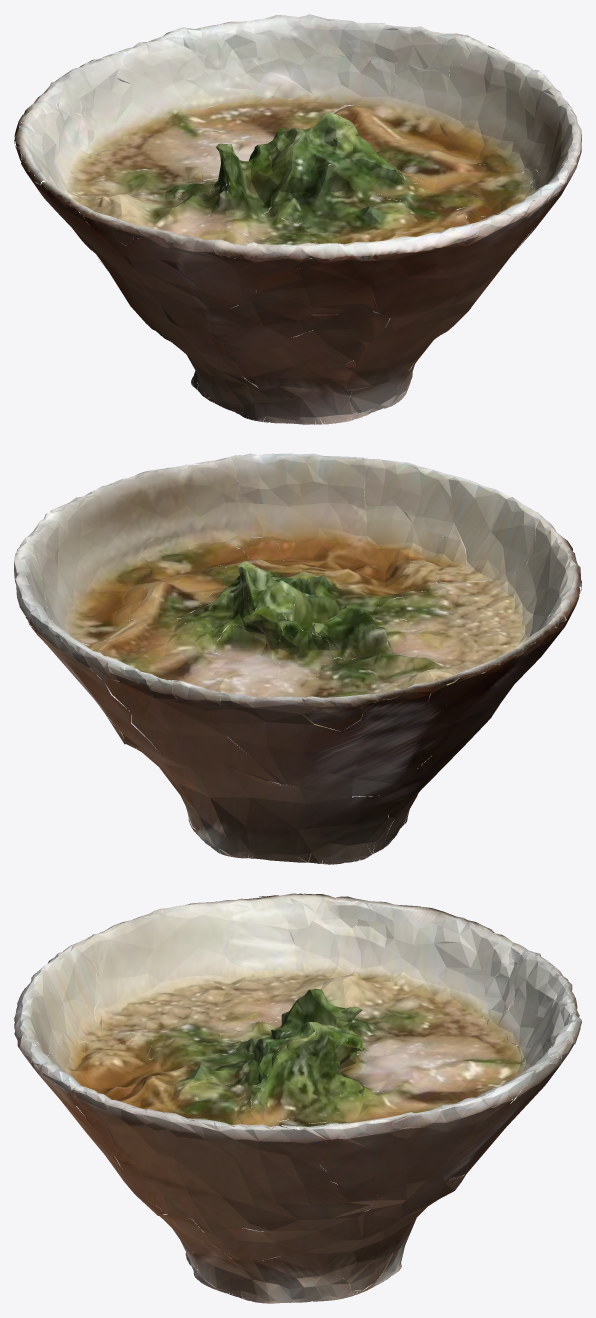
The model's file is free-ramen.glb.
3 renders of one model, top to bottom at view 1: azimuth 30°, elevation 25°; view 2: azimuth 150°, elevation 25°; view 3: azimuth 270°, elevation 25°, orthographic.
Parts seen in each view (by area): view 1: mesh; view 2: mesh; view 3: mesh.
Part boxes in pixels (x1=…): mesh: x1=14, y1=14, x2=581, y2=424; mesh: x1=14, y1=453, x2=581, y2=864; mesh: x1=14, y1=893, x2=581, y2=1303.
Bounding box in the file's own units: 0.1998 × 0.0976 × 0.2001.
1 material, 1 textured.
